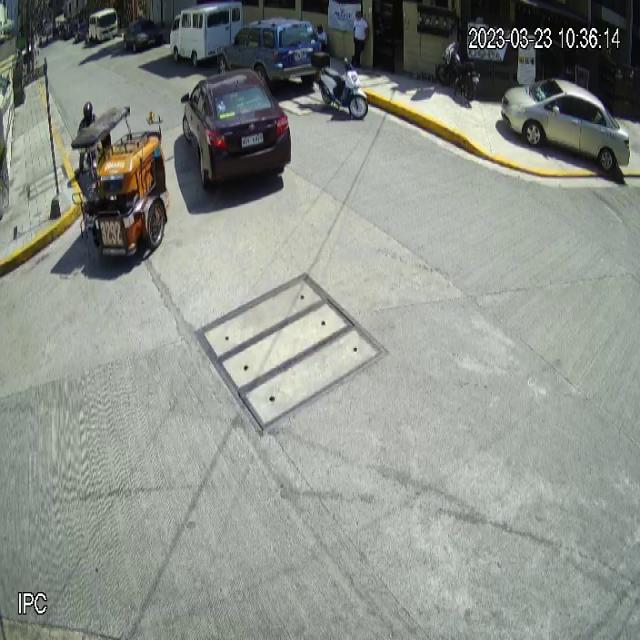Car: (180, 68, 292, 192), (500, 76, 631, 175), (216, 16, 321, 85)
Motorcycle: (310, 49, 370, 121)
Tricycle: (70, 105, 170, 261)
Van: (168, 0, 244, 69)
